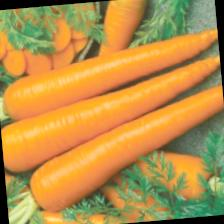carrot: (0, 54, 224, 173), (20, 83, 224, 213), (0, 27, 224, 122)
